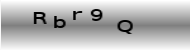9: (90, 7, 103, 22)
Q: (117, 18, 133, 34)
R: (32, 10, 46, 25)
b: (52, 14, 67, 28)
r: (72, 9, 83, 21)
